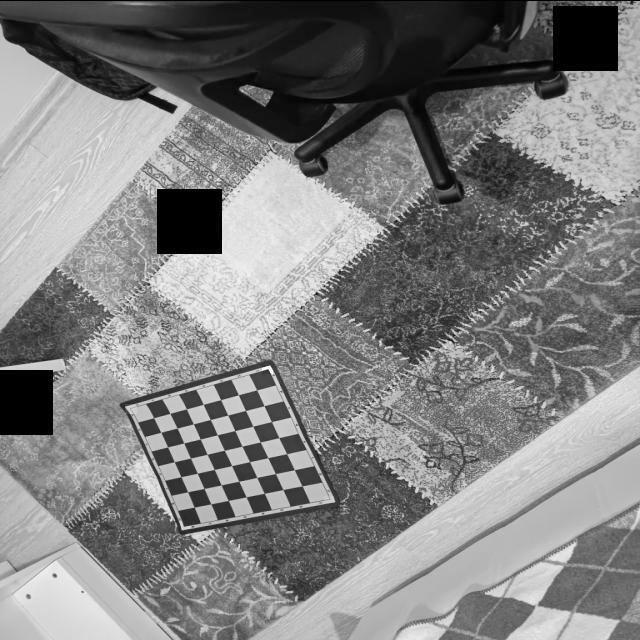chess-table-corners: (177, 520, 191, 531), (125, 403, 137, 413), (262, 364, 273, 373), (324, 495, 334, 502)
